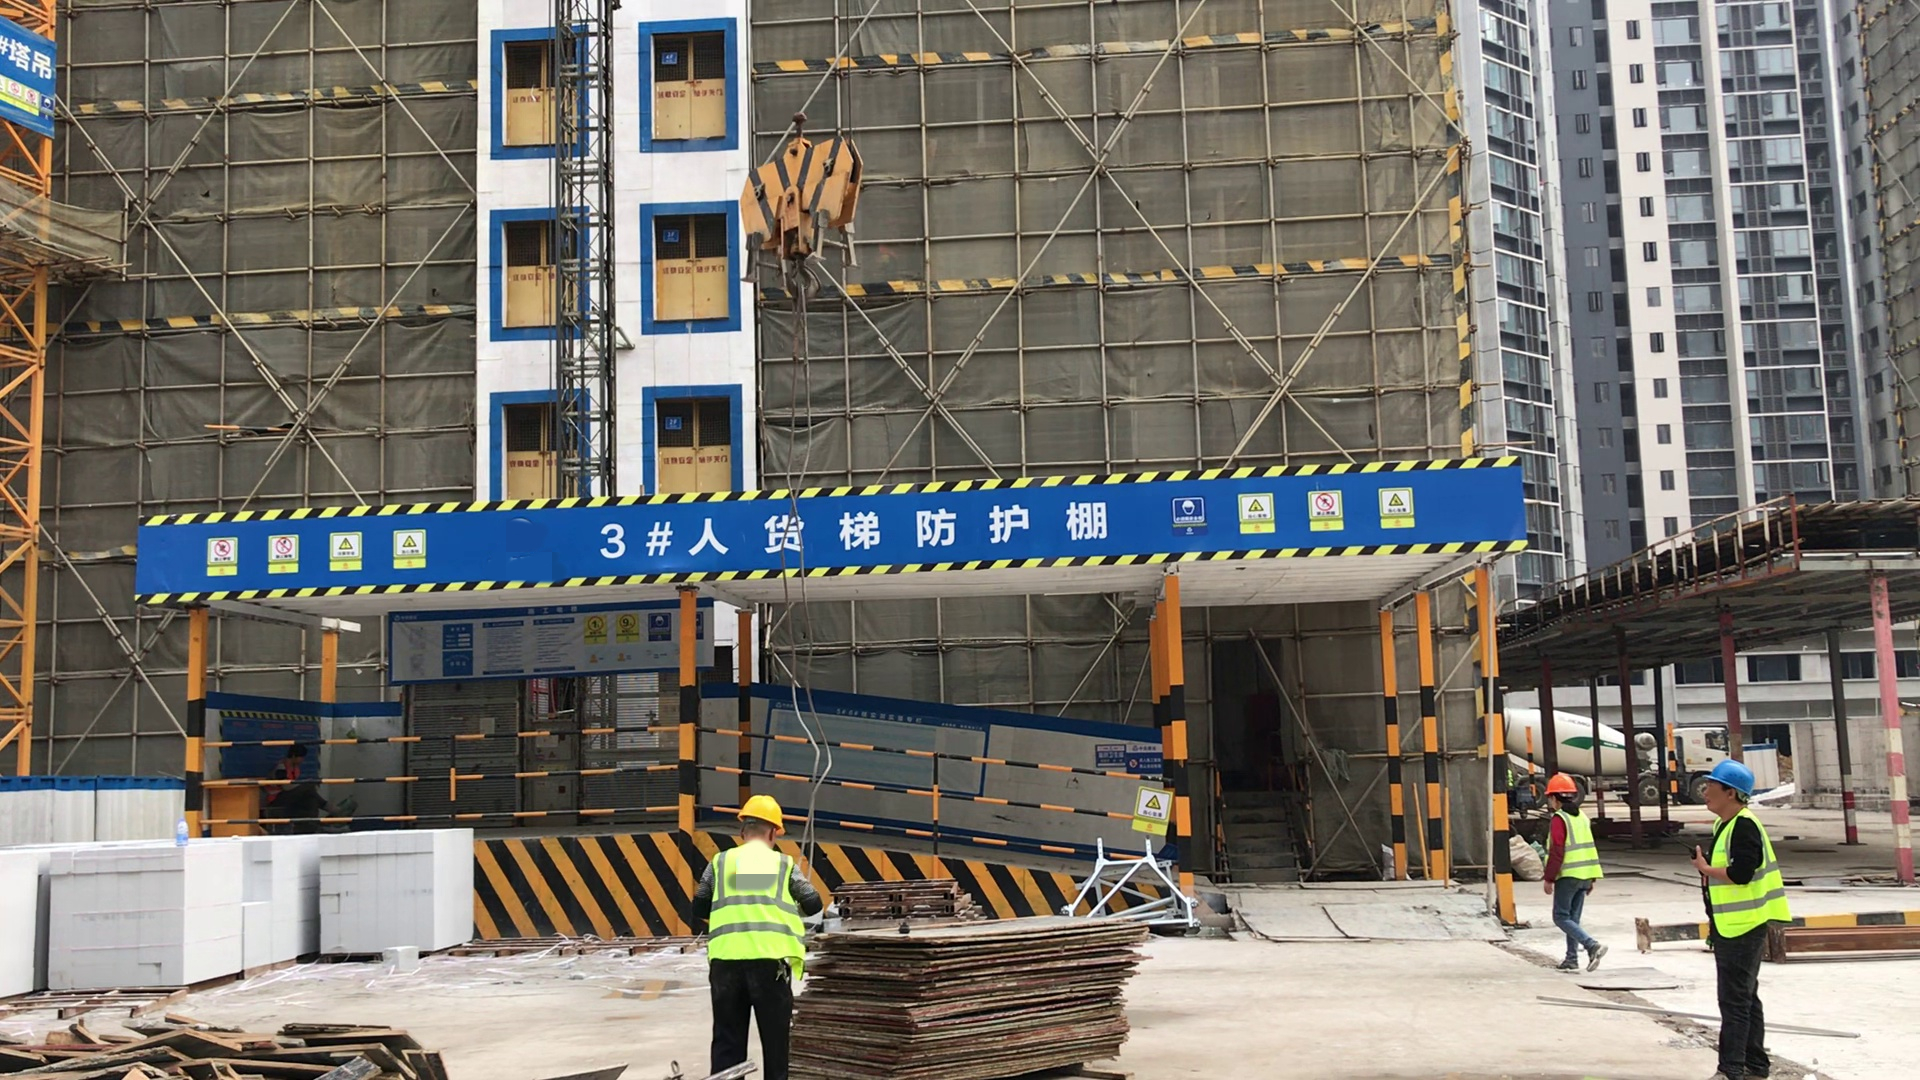board: (789, 913, 1151, 1080)
brick: (3, 831, 477, 998)
helmet: (737, 792, 786, 832), (1702, 761, 1752, 798), (1543, 771, 1575, 796)
hook: (733, 136, 858, 308)
person: (693, 793, 825, 1080), (1682, 760, 1796, 1079), (1540, 768, 1612, 974)
slogan: (1164, 480, 1421, 542), (192, 531, 446, 575), (583, 612, 709, 668), (3, 67, 56, 118), (1093, 742, 1163, 775), (1131, 784, 1175, 838)
vest: (708, 844, 806, 978), (1703, 809, 1791, 940), (1547, 808, 1604, 882)
